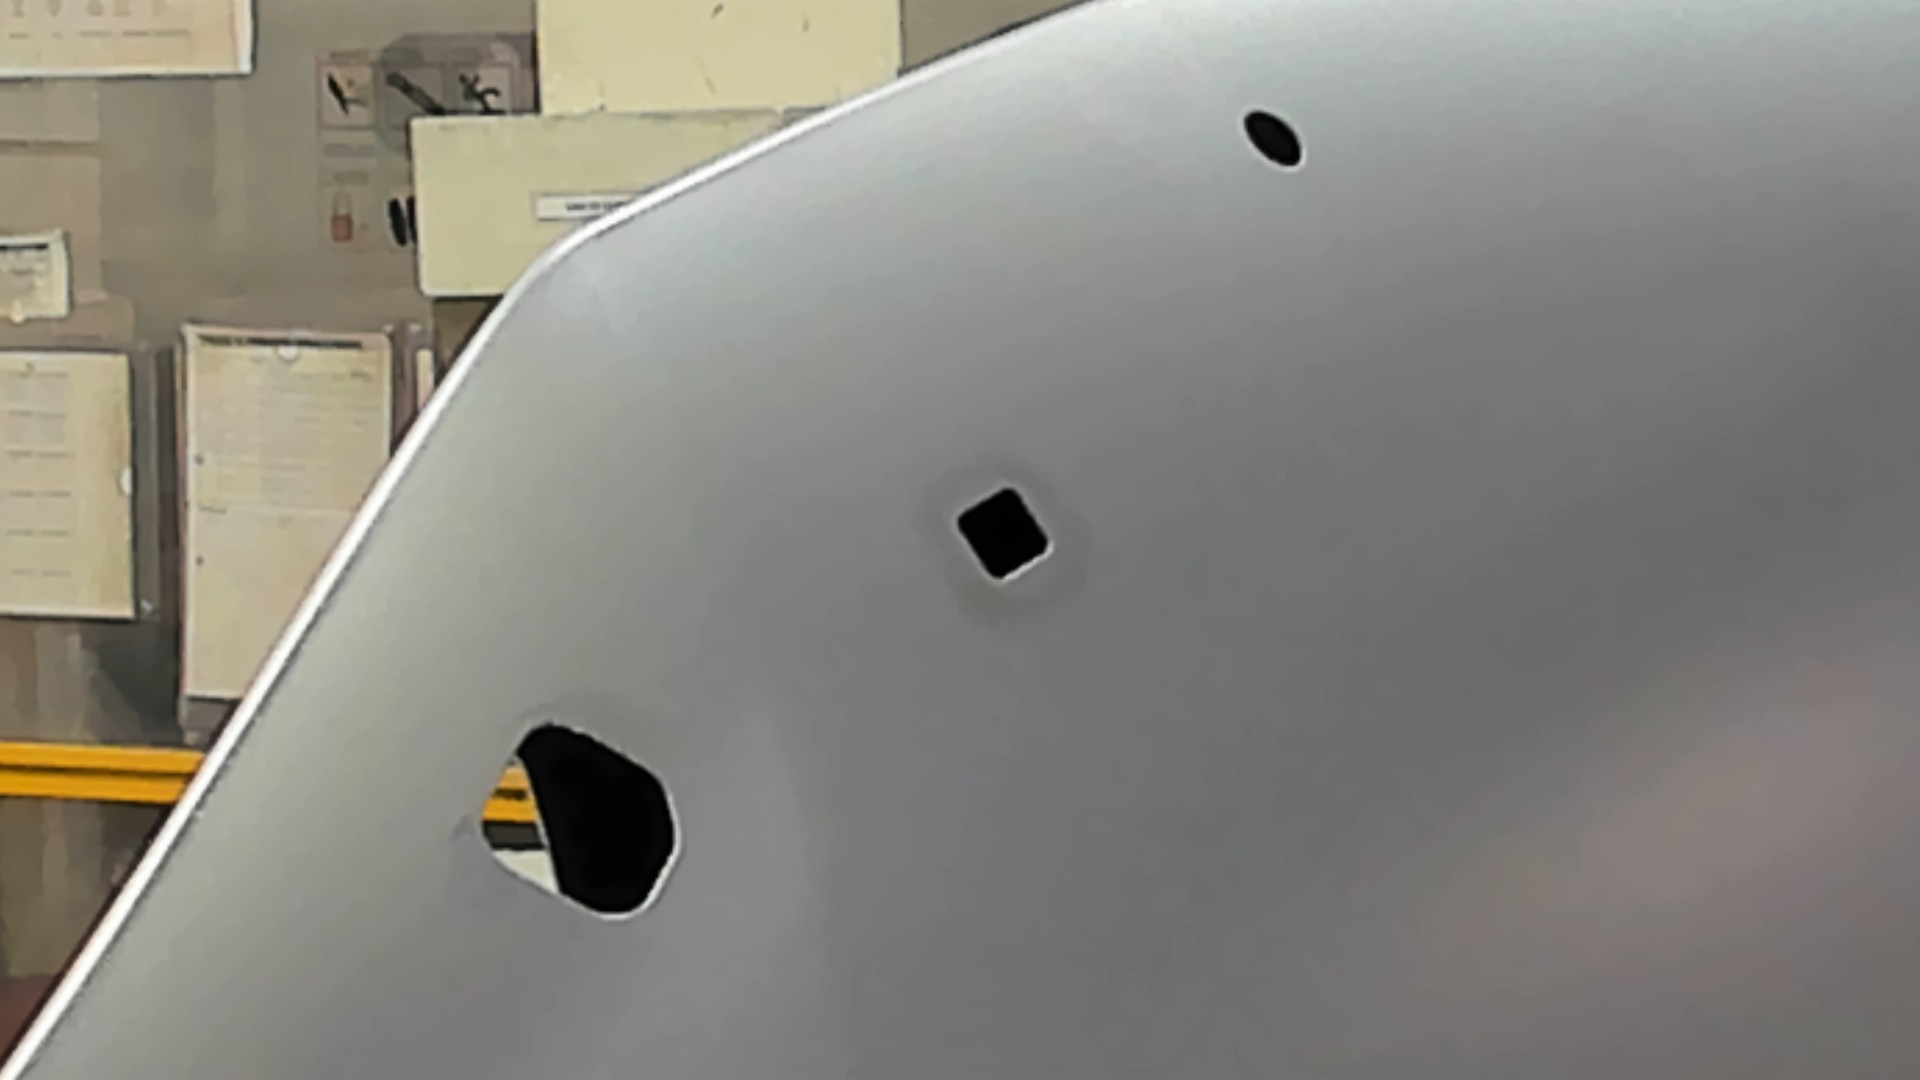chico: (1240, 105, 1304, 169)
grande: (473, 719, 686, 924)
mediano: (952, 481, 1055, 587)
